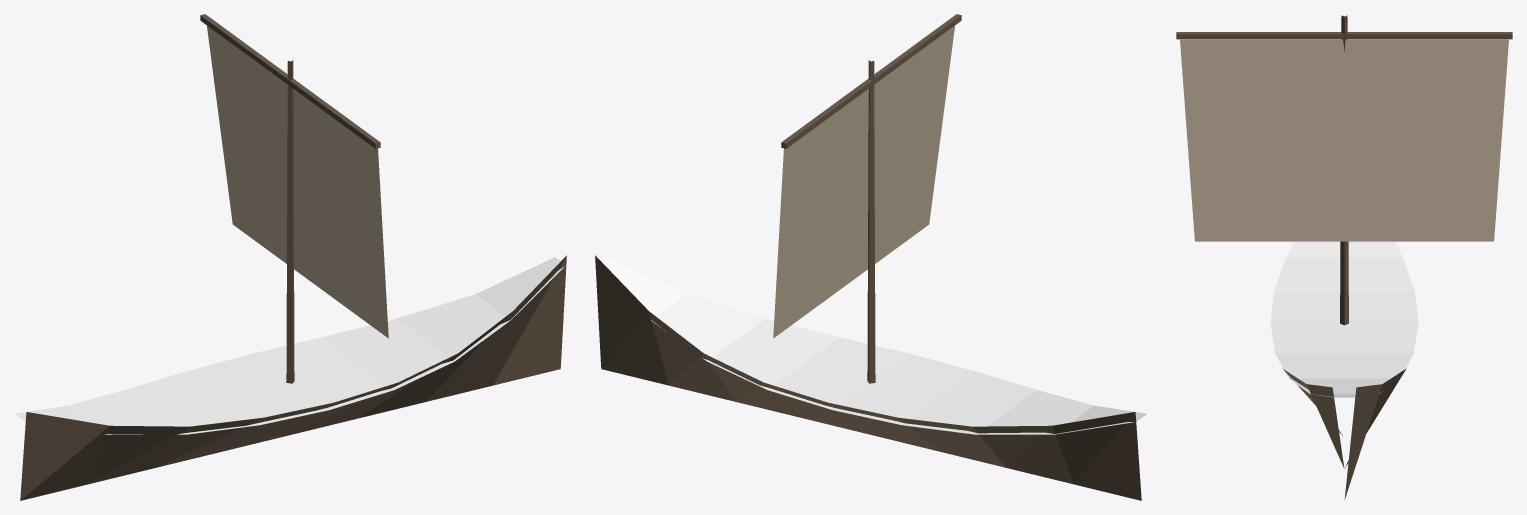
Rendered from ship.glb.
3 renders of one model, left to right at view 1: azimuth 30°, elevation 25°; view 2: azimuth 150°, elevation 25°; view 3: azimuth 270°, elevation 25°, orthographic. The views are drawn at different scales.
Visible parts, largest first — view 1: ship_mesh; view 2: ship_mesh; view 3: ship_mesh.
Part boxes in pixels (left/top/right/bottom): ship_mesh: left=15, top=14, right=566, bottom=500; ship_mesh: left=595, top=14, right=1146, bottom=500; ship_mesh: left=1176, top=15, right=1512, bottom=499.
Size of the model in its own units: 16 by 10.6 by 9.
